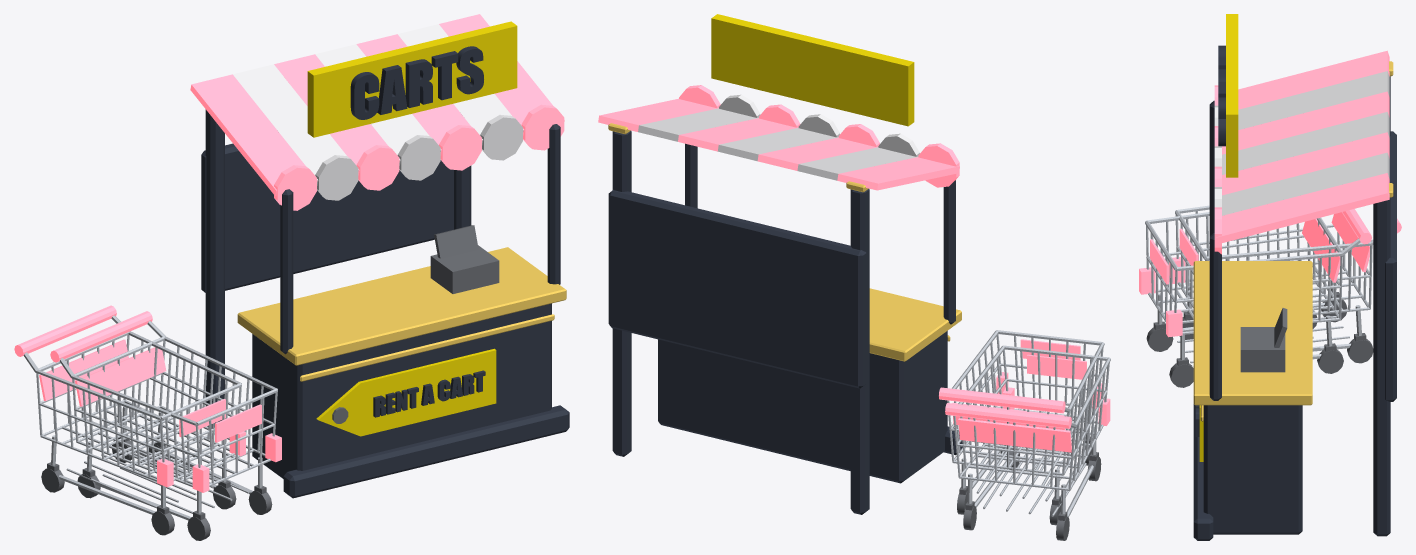
File: cart-merchant.glb
3 renders of one model, left to right at view 1: azimuth 30°, elevation 25°; view 2: azimuth 150°, elevation 25°; view 3: azimuth 270°, elevation 25°, orthographic. The views are drawn at different scales.
Parts seen in each view (by area): view 1: Stall_Navy, Stall_Red, Stall_Chrome, Stall_Gold, Stall_Yellow, Stall_White, Stall_Metal; view 2: Stall_Navy, Stall_Red, Stall_Yellow, Stall_Chrome, Stall_White, Stall_Gold, Stall_Metal; view 3: Stall_Navy, Stall_Red, Stall_Gold, Stall_White, Stall_Chrome, Stall_Metal, Stall_Yellow.
Boxes of the visible parts, bbox=[...] form: Stall_Navy: bbox=[201, 46, 569, 498]; Stall_Red: bbox=[14, 14, 564, 492]; Stall_Chrome: bbox=[23, 315, 277, 520]; Stall_Gold: bbox=[237, 247, 566, 381]; Stall_Yellow: bbox=[307, 21, 517, 436]; Stall_White: bbox=[233, 24, 523, 200]; Stall_Metal: bbox=[41, 225, 499, 540]; Stall_Navy: bbox=[608, 131, 962, 514]; Stall_Red: bbox=[598, 85, 1110, 452]; Stall_Yellow: bbox=[711, 14, 914, 126]; Stall_Chrome: bbox=[947, 330, 1110, 517]; Stall_White: bbox=[638, 94, 919, 180]; Stall_Gold: bbox=[608, 123, 961, 361]; Stall_Metal: bbox=[957, 436, 1101, 540]; Stall_Navy: bbox=[1193, 45, 1396, 540]; Stall_Red: bbox=[1139, 50, 1401, 337]; Stall_Gold: bbox=[1193, 61, 1393, 421]; Stall_White: bbox=[1214, 71, 1389, 215]; Stall_Chrome: bbox=[1145, 205, 1373, 367]; Stall_Metal: bbox=[1146, 292, 1373, 387]; Stall_Yellow: bbox=[1199, 14, 1238, 461].
Bounding box in the file's own units: 11.21 × 9.1 × 5.3.
